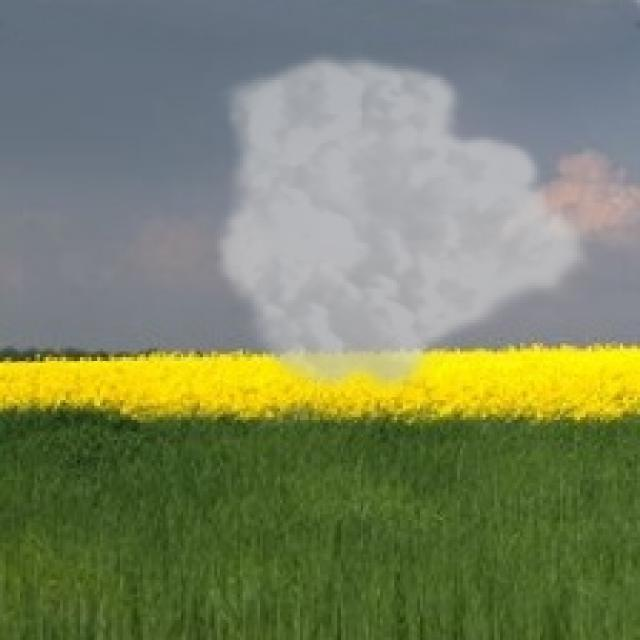smoke: (212, 49, 594, 400)
